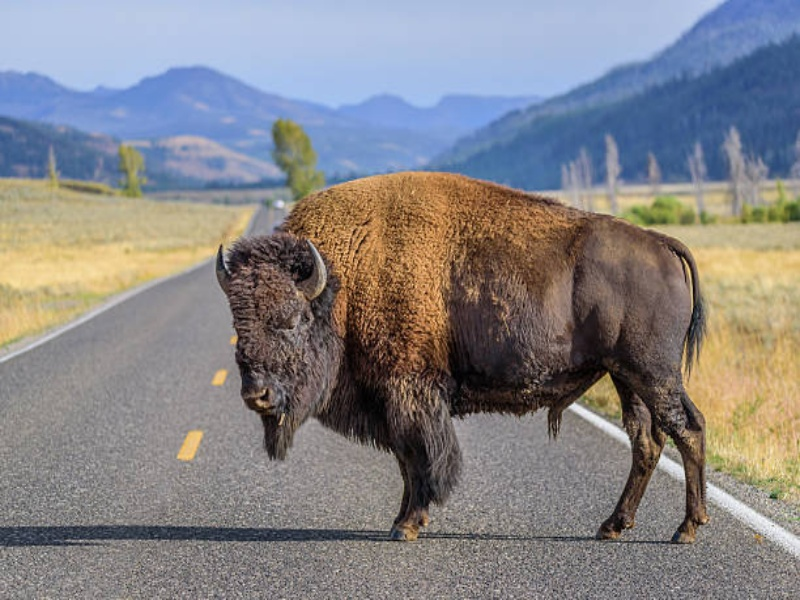buffalo: (206, 166, 723, 551)
